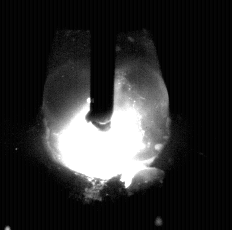arame: (91, 0, 115, 131)
poca: (42, 0, 170, 230)
